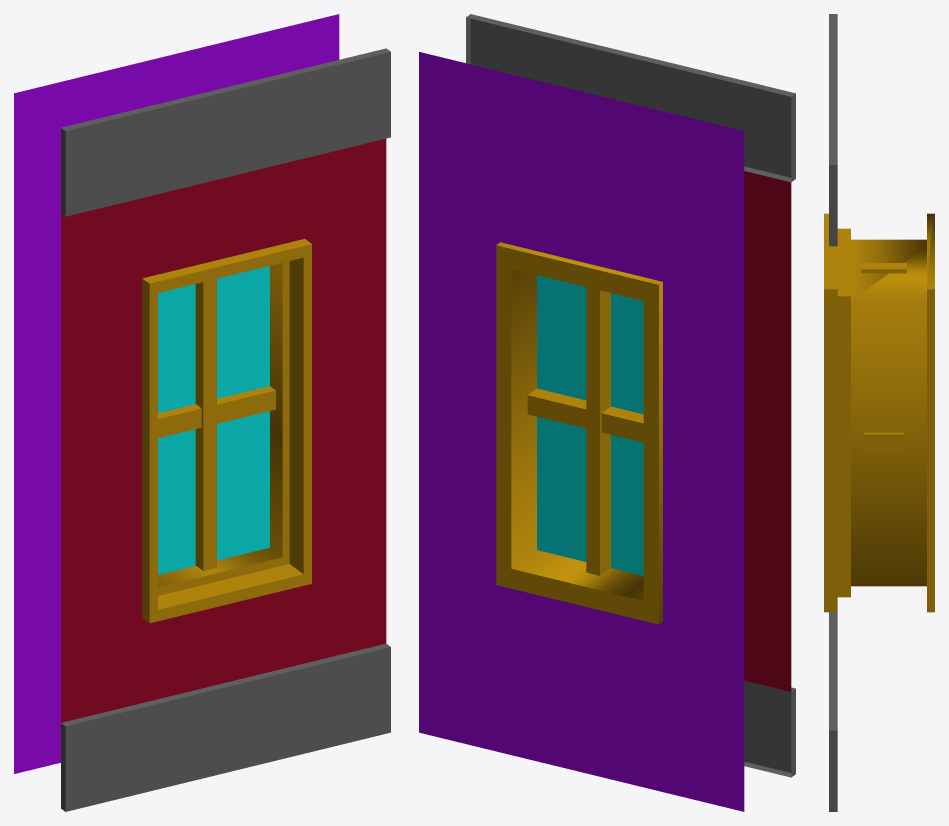
Rendered from Window_01_1x2.fbx.
3 renders of one model, left to right at view 1: azimuth 30°, elevation 25°; view 2: azimuth 150°, elevation 25°; view 3: azimuth 270°, elevation 25°, orthographic. The views are drawn at different scales.
Parts seen in each view (by area): view 1: Window_01_1x2; view 2: Window_01_1x2; view 3: Window_01_1x2.
Boxes of the visible parts, left/top/right/bottom form: Window_01_1x2: left=14, top=14, right=390, bottom=811; Window_01_1x2: left=419, top=14, right=795, bottom=811; Window_01_1x2: left=824, top=14, right=934, bottom=811.
Bounding box in the file's own units: 1 × 2 × 0.3106.
